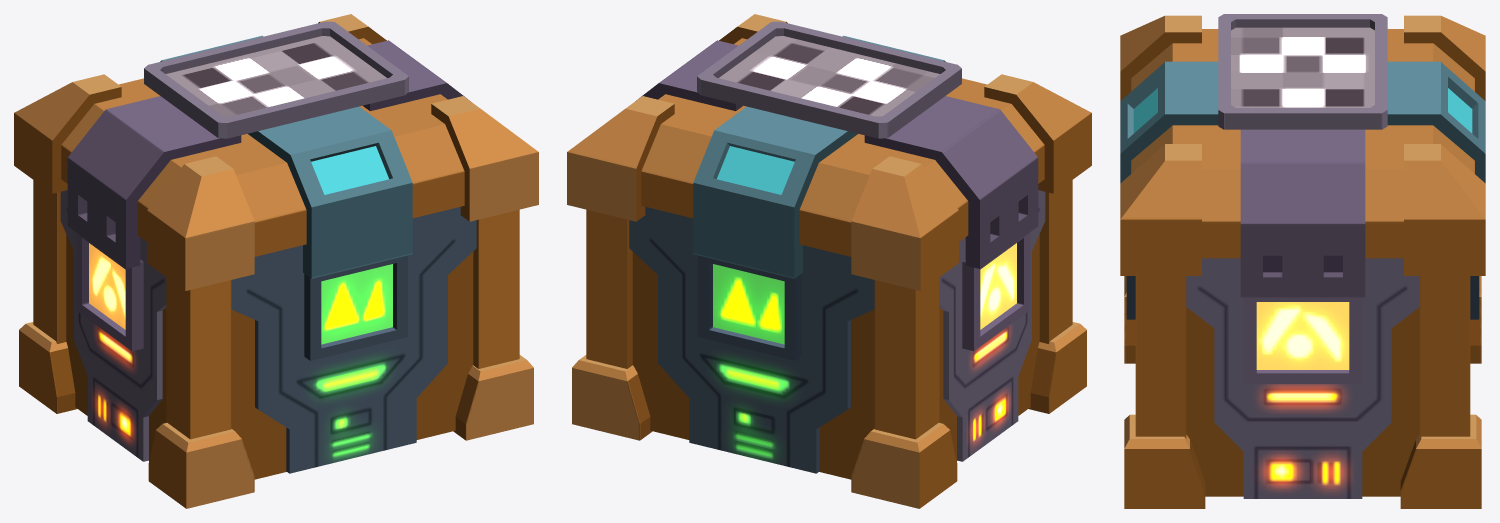
The model's file is Scifi_LootBox_05.fbx.
3 views of the same model, side by side, from view 1: azimuth 30°, elevation 25°; view 2: azimuth 150°, elevation 25°; view 3: azimuth 270°, elevation 25° (orthographic). The views are drawn at different scales.
Parts seen in each view (by area): view 1: Scifi_LootBox_05; view 2: Scifi_LootBox_05; view 3: Scifi_LootBox_05.
Part boxes in pixels (x1=…): Scifi_LootBox_05: x1=14, y1=14, x2=538, y2=508; Scifi_LootBox_05: x1=567, y1=14, x2=1091, y2=508; Scifi_LootBox_05: x1=1120, y1=14, x2=1485, y2=508.
Size of the model in its own units: 231 by 205 by 191.
